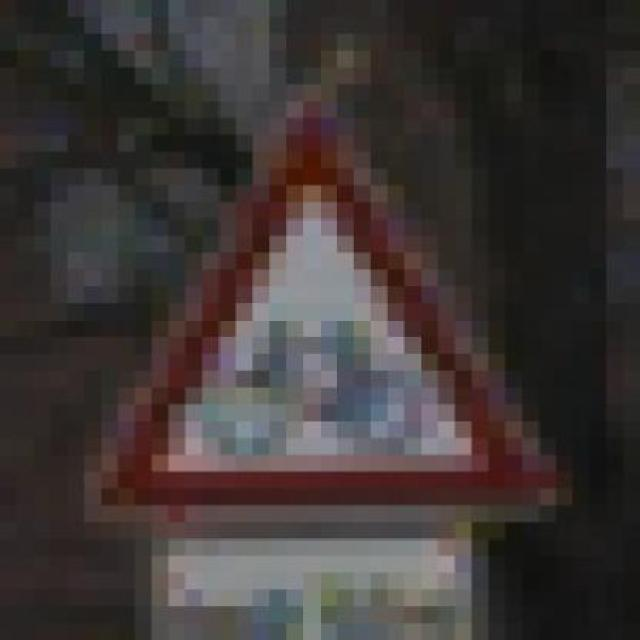CYCLE ROUTE AHEAD WARNING: (67, 67, 590, 539)
